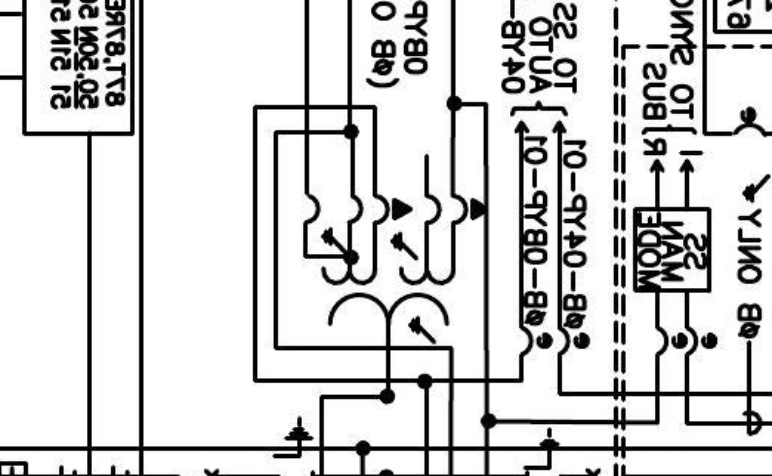115_vt_1p: (320, 192, 488, 346)
ss_man_mode: (632, 206, 713, 295)
